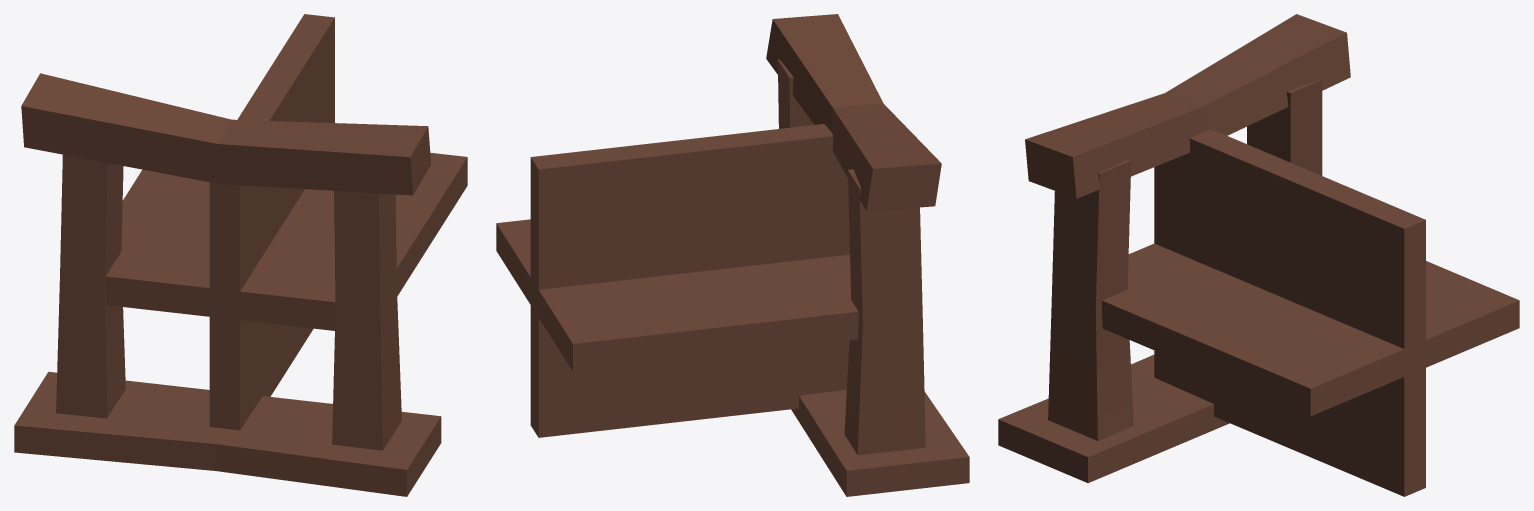
Rendered from WindoeFrame.fbx.
3 renders of one model, left to right at view 1: azimuth 30°, elevation 25°; view 2: azimuth 150°, elevation 25°; view 3: azimuth 270°, elevation 25°, orthographic. The views are drawn at different scales.
Visible parts, largest first — view 1: WindowFrameAround, WindowFrameCenter; view 2: WindowFrameCenter, WindowFrameAround; view 3: WindowFrameCenter, WindowFrameAround.
Boxes of the visible parts, box(x1,y1,x2,y2) form: WindowFrameAround: box(14, 73, 441, 496); WindowFrameCenter: box(105, 14, 467, 430); WindowFrameCenter: box(496, 124, 858, 437); WindowFrameAround: box(766, 14, 969, 496); WindowFrameCenter: box(1102, 129, 1519, 496); WindowFrameAround: box(998, 14, 1350, 482).
Bounding box in the file's own units: 891 × 608 × 885.
